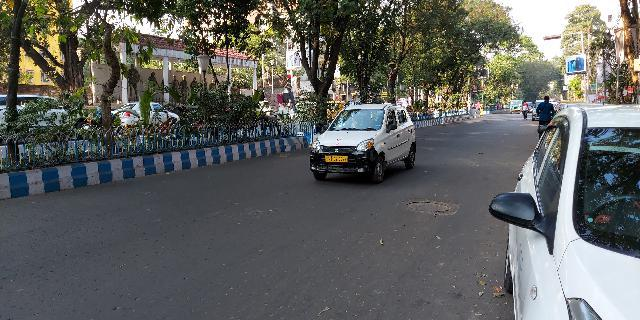Car: (486, 102, 640, 320), (310, 99, 420, 182)
